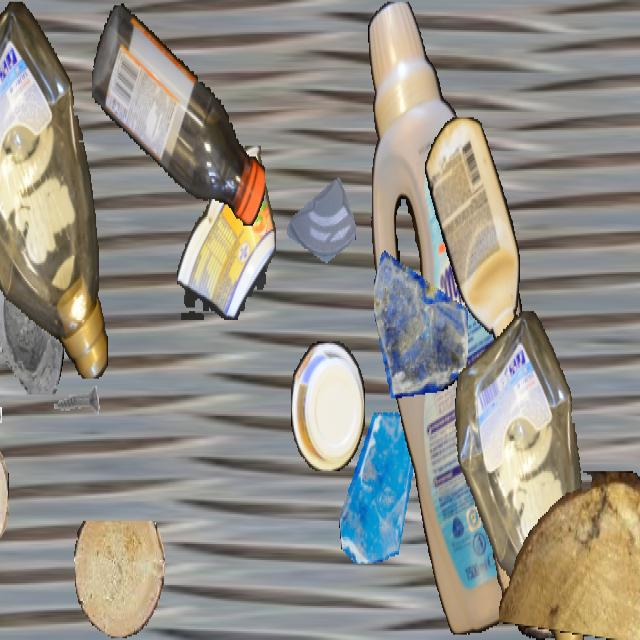glass: (374, 231, 468, 398), (337, 412, 421, 562), (0, 234, 67, 394), (287, 166, 355, 286)
metal: (489, 267, 551, 377), (49, 363, 101, 455), (0, 353, 2, 442)
plastic: (366, 2, 570, 634), (450, 311, 596, 638), (0, 1, 109, 378), (92, 2, 264, 229), (425, 117, 519, 345), (177, 146, 275, 320), (291, 342, 365, 469), (0, 2, 6, 126)
wood: (499, 471, 640, 638), (491, 450, 567, 638), (74, 521, 164, 638), (0, 432, 9, 556)
